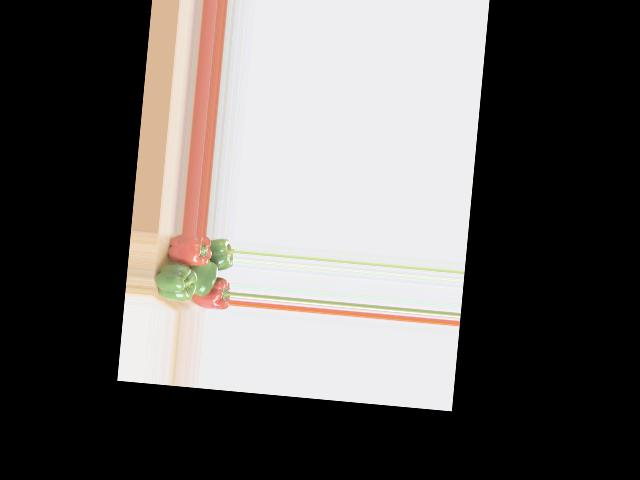bell_pepper: (162, 232, 211, 268)
